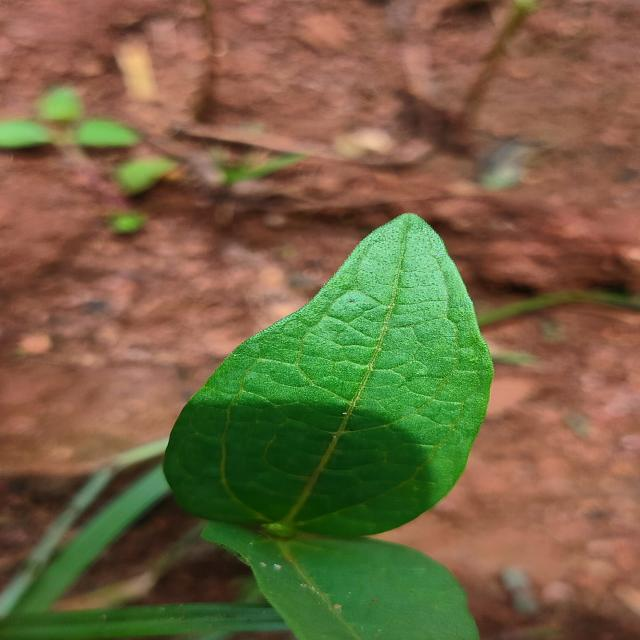Black gram_healthy: (167, 213, 493, 541)
